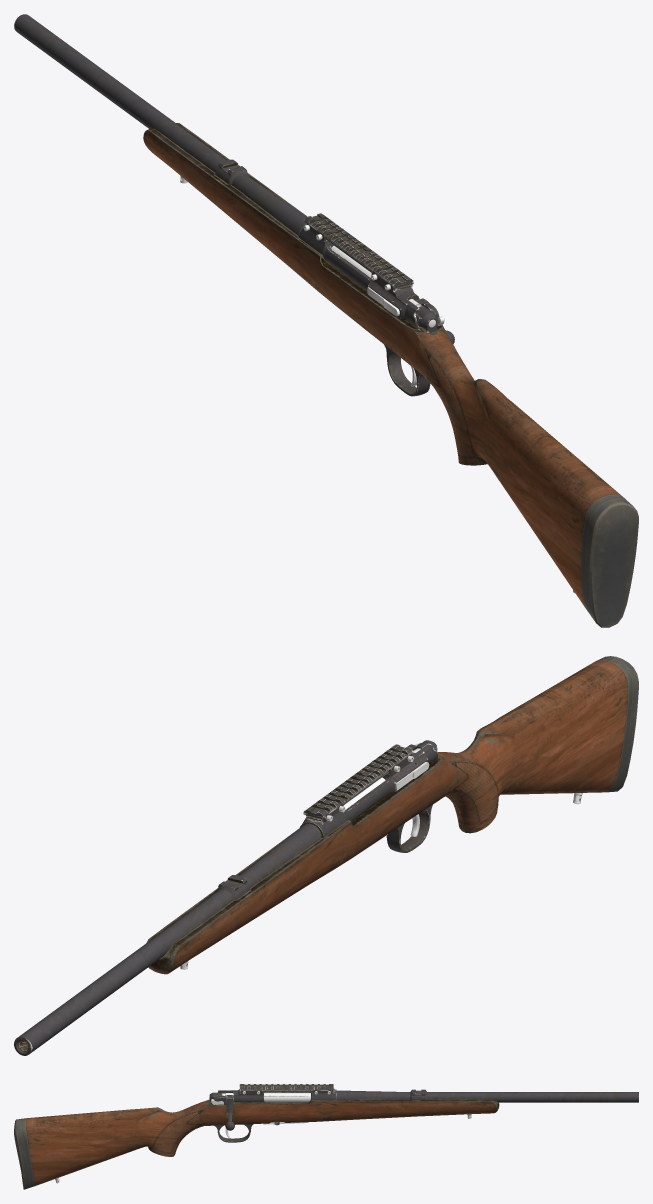
3 renders of one model, top to bottom at view 1: azimuth 30°, elevation 25°; view 2: azimuth 150°, elevation 25°; view 3: azimuth 270°, elevation 25°, orthographic. The views are drawn at different scales.
Parts seen in each view (by area): view 1: FRAME_LOD0.001, FRAME_LOD0; view 2: FRAME_LOD0.001, FRAME_LOD0; view 3: FRAME_LOD0.001, FRAME_LOD0.
Boxes of the visible parts, x1,y1,x2,y2 form: FRAME_LOD0.001: [14, 14, 638, 627]; FRAME_LOD0: [303, 213, 413, 292]; FRAME_LOD0.001: [14, 656, 638, 1055]; FRAME_LOD0: [303, 744, 413, 822]; FRAME_LOD0.001: [14, 1088, 638, 1189]; FRAME_LOD0: [239, 1084, 333, 1094].
Size of the model in its own units: 0.0658 by 0.1919 by 1.06.
Materials: 2 (2 with a texture image).
